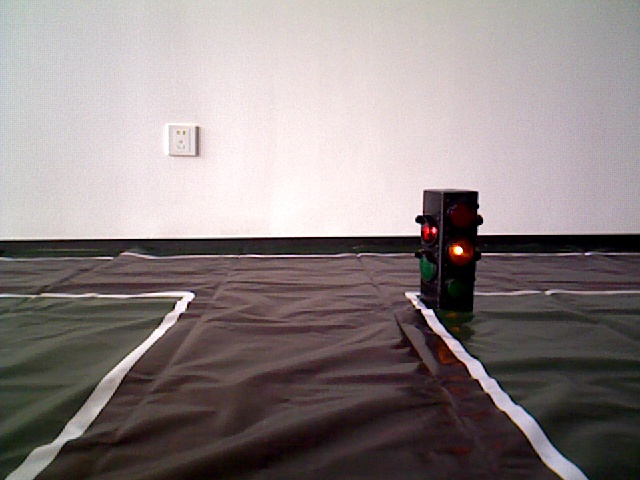yellow: (418, 190, 471, 314)
